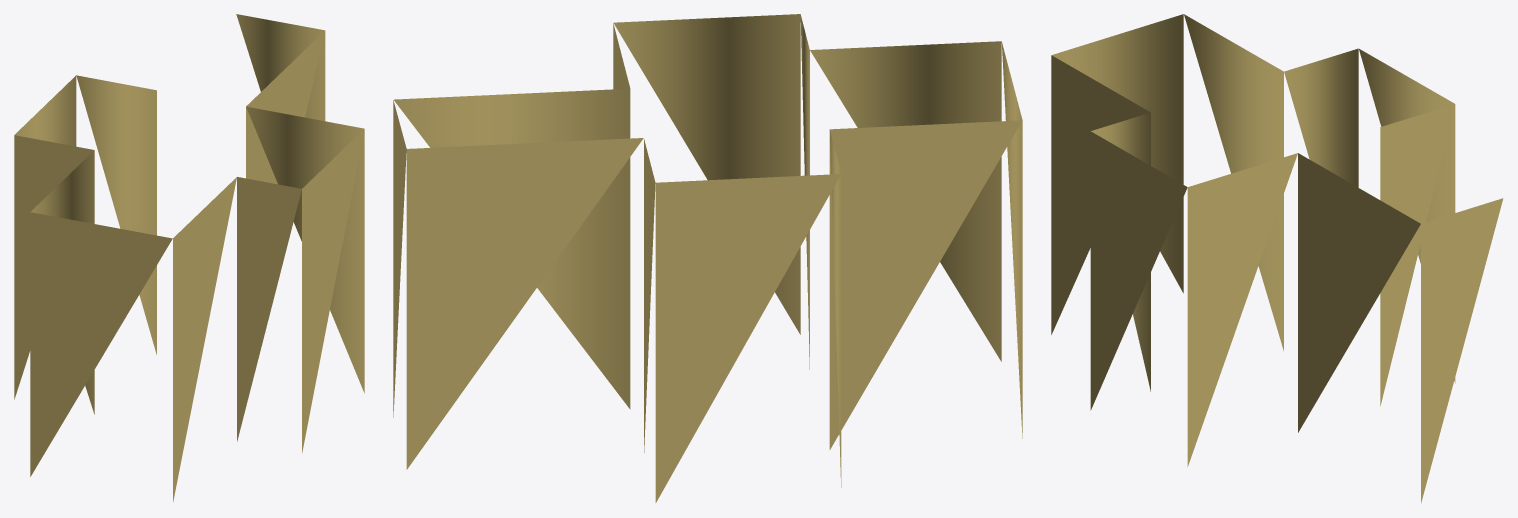
3 renders of one model, left to right at view 1: azimuth 30°, elevation 25°; view 2: azimuth 150°, elevation 25°; view 3: azimuth 270°, elevation 25°, orthographic. The views are drawn at different scales.
Bounding box in the file's own units: 40.17 × 25 × 36.56.
